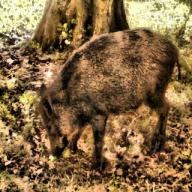boar: (38, 26, 180, 172)
